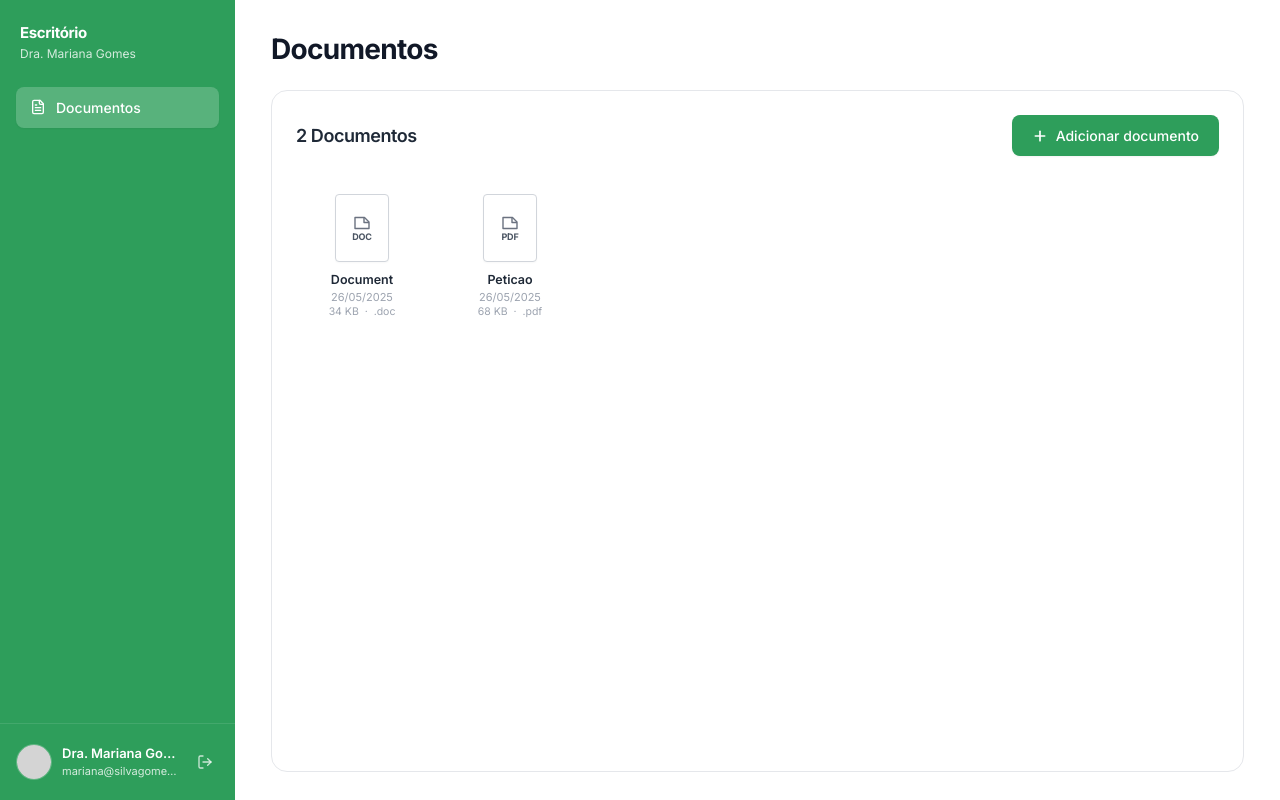
Test: DocumentsPage — Fluxos do Protótipo (.insp) › deve ocultar "Visualizar analise" e manter apenas "Excluir documentos" ao selecionar 2 ou mais documentos
Check: the heading "2 Documentos" is shown, box [296,122,417,149]
Click the button with test id "document-card-doc-1" at (362, 256), box [329,194,395,318]
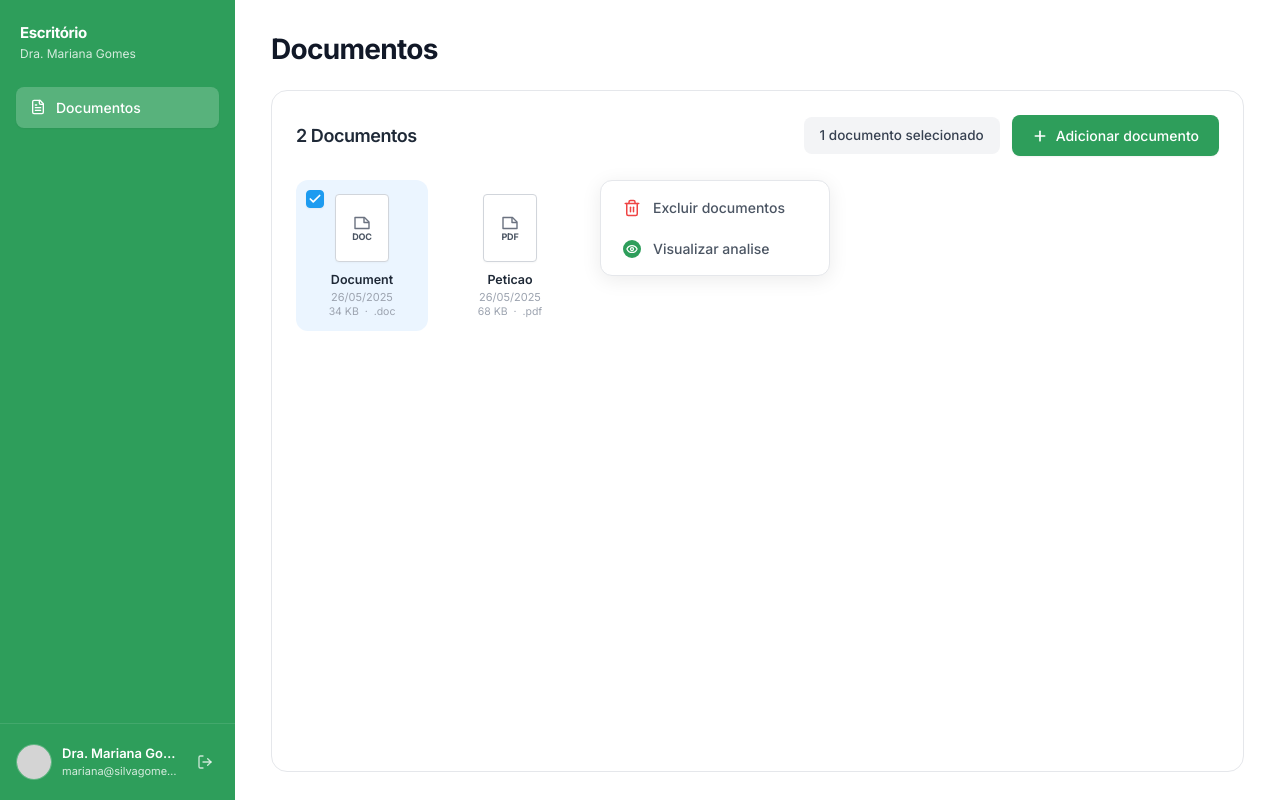
Click the button with test id "document-card-doc-2" at (510, 256), box [478,194,542,318]
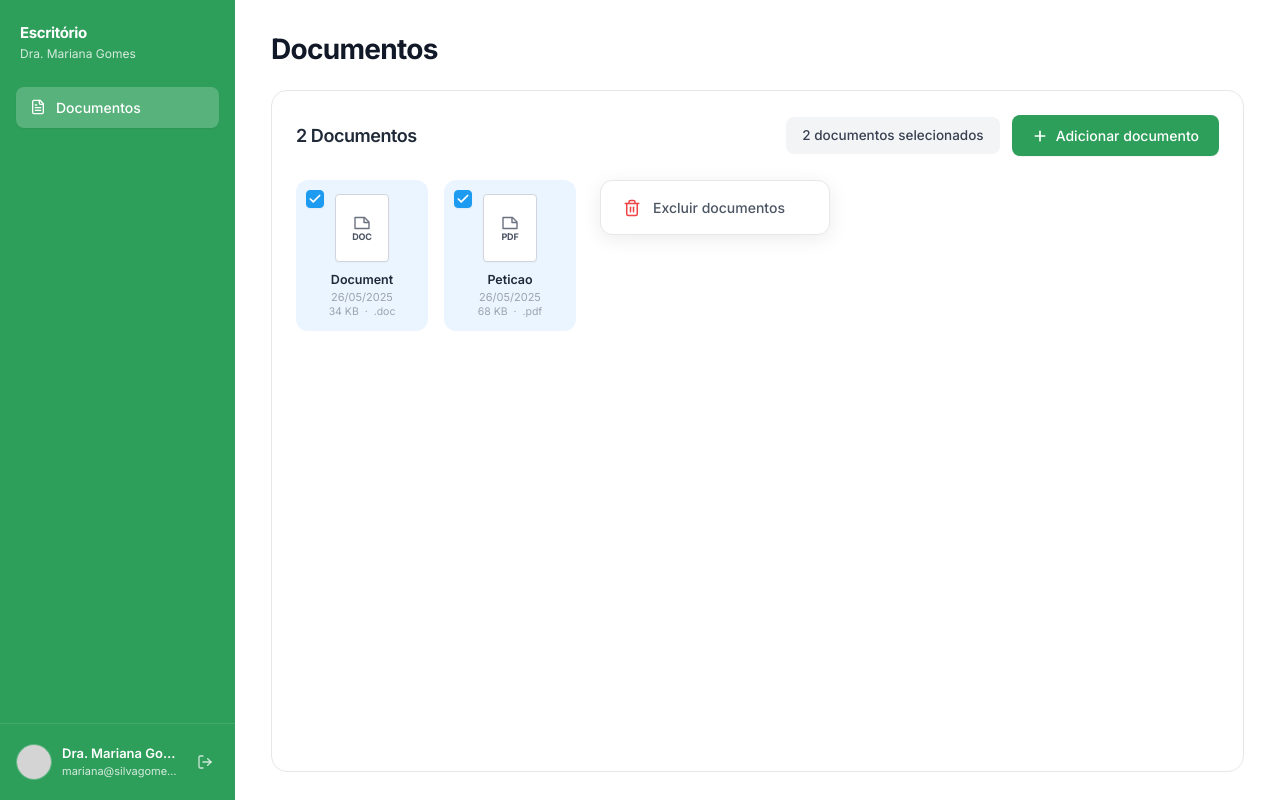
Check: the button with test id "btn-delete-selected" is shown, box [611,189,819,226]
Check: the text with test id "selected-counter-badge" reads "2 documentos selecionados", box [802,127,984,143]
Check: the button with test id "btn-view-analysis" is gone
